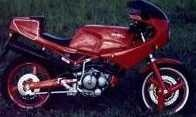motorcycle: (5, 2, 193, 114)
